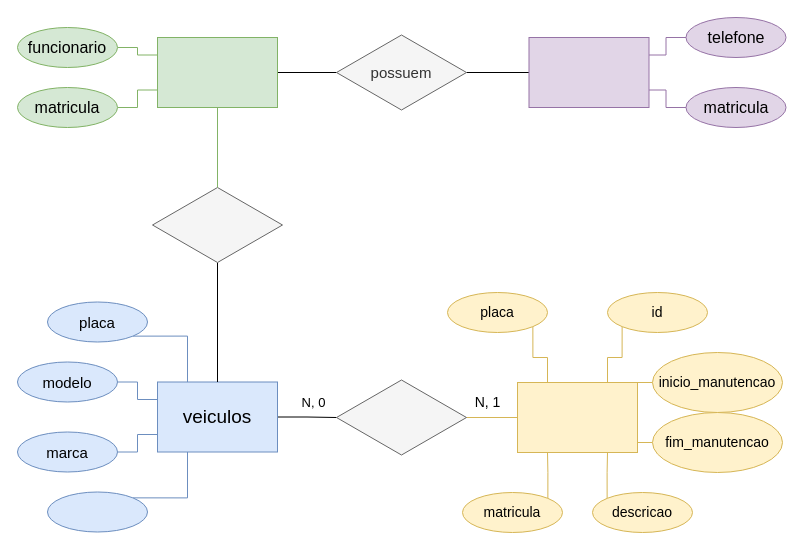
Image size: 804x558. Some labels were removed from this diagram. The shapes that lost their labels are listed below. From the top down, each one's centre as x and y in pixels, then its label:
At [217,72]: "funcionarios".
At [588,72]: "telefones".
At [217,224]: "consertam".
At [401,417]: "vão para".
At [577,417]: "manutencao".
At [97,511]: "ano".
